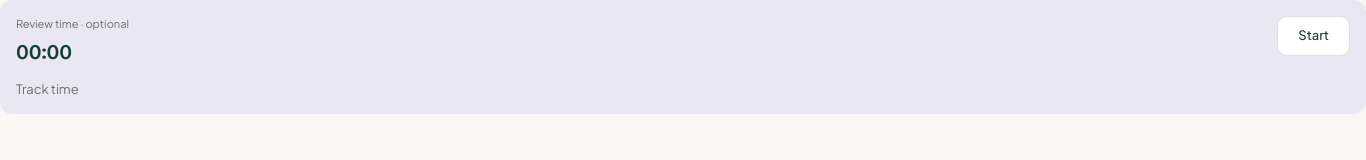
Test: MistakeReviewTimer › starts, ticks, stops, and resets with the active card
Later steps or results of the test are not shown.
Expected: the text "00:00" is shown, x1=16 y1=38 x2=72 y2=64
Click the button "Start".
click(1314, 36)  # box x1=1277 y1=16 x2=1350 y2=56
Wait 2000 ms
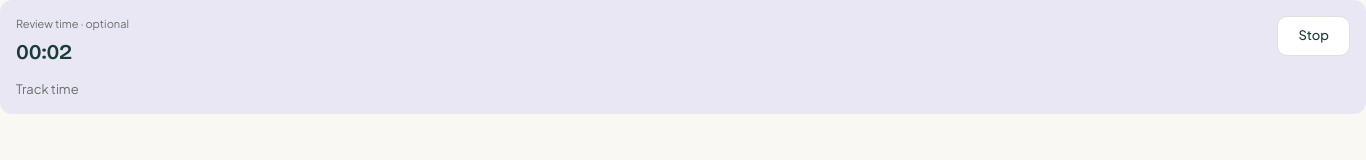
Result: the text "00:02" is shown at x1=16 y1=38 x2=72 y2=64
Click the button "Stop".
click(1314, 36)  # box x1=1277 y1=16 x2=1350 y2=56
Wait 2000 ms
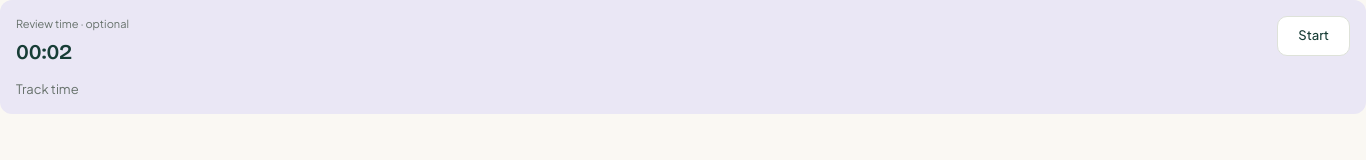
Result: the text "00:02" is shown at x1=16 y1=38 x2=72 y2=64
